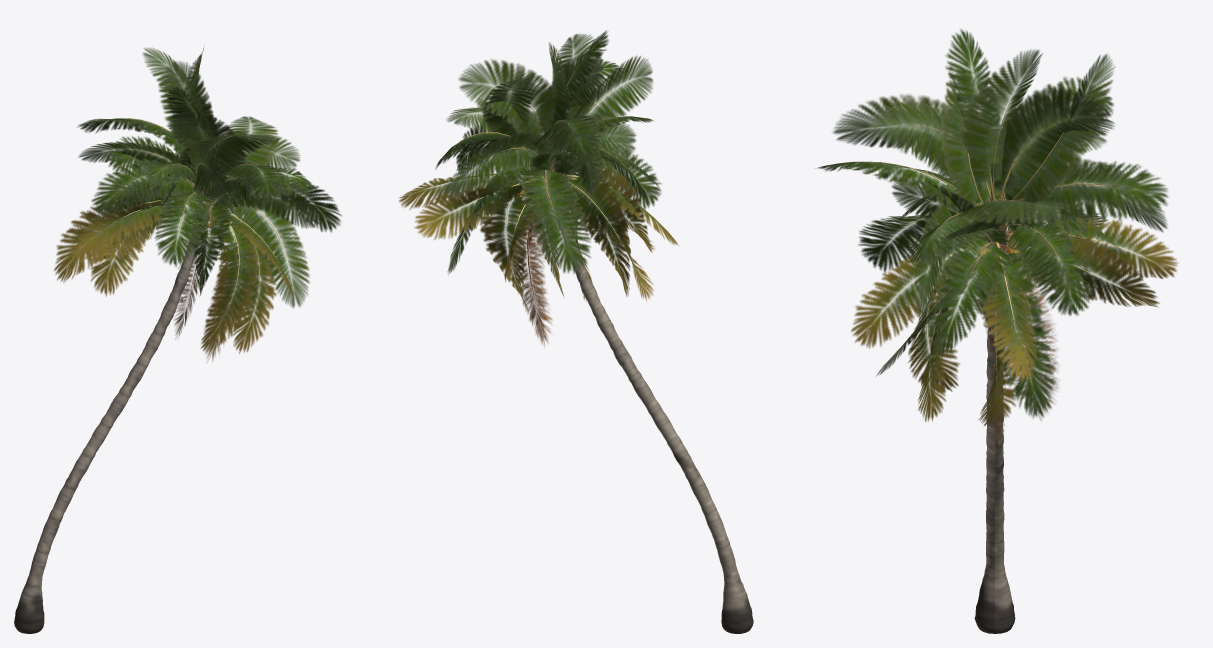
Rendered from palm.gltf.
3 renders of one model, left to right at view 1: azimuth 30°, elevation 25°; view 2: azimuth 150°, elevation 25°; view 3: azimuth 270°, elevation 25°, orthographic. The views are drawn at different scales.
Parts seen in each view (by area): view 1: Object_7; view 2: Object_7; view 3: Object_7.
Boxes of the visible parts, x1=… form: Object_7: x1=14, y1=46, x2=341, y2=633; Object_7: x1=398, y1=30, x2=753, y2=633; Object_7: x1=815, y1=29, x2=1178, y2=633.
Size of the model in its own units: 11.9 by 18.91 by 9.92.
1 material, 1 textured.
